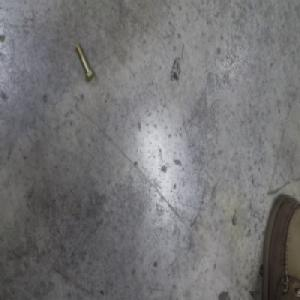Bolt: (74, 42, 94, 84)
